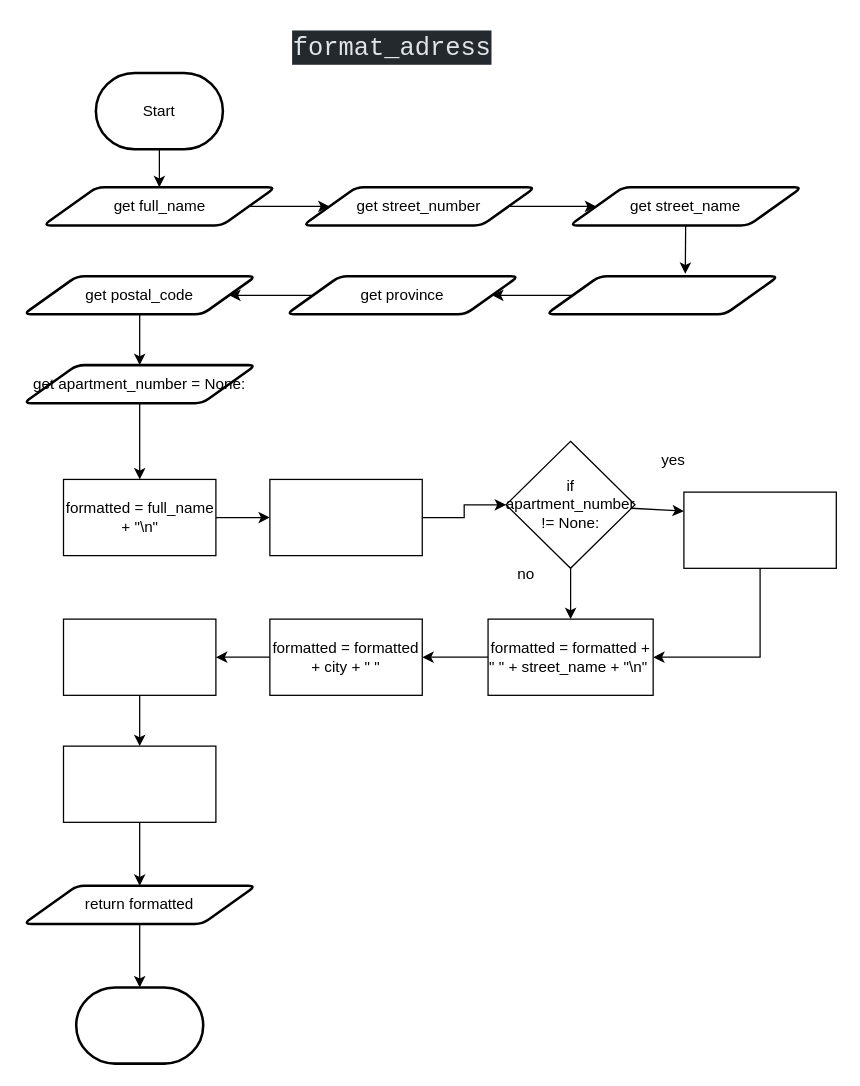
The diagram is 860 pixels wide and 1086 high, and some of its shapes have lost their labels. Each missing label, with the centre of its shape:
formatted = formatted + "-" + str(aparment_number): pixel 759 529
formatted = formatted + postal_code: pixel 139 783
formatted = formatted + province + " ": pixel 139 656
formatted = formatted + str(street_number): pixel 345 517
get city: pixel 661 294
Stop: pixel 139 1025
